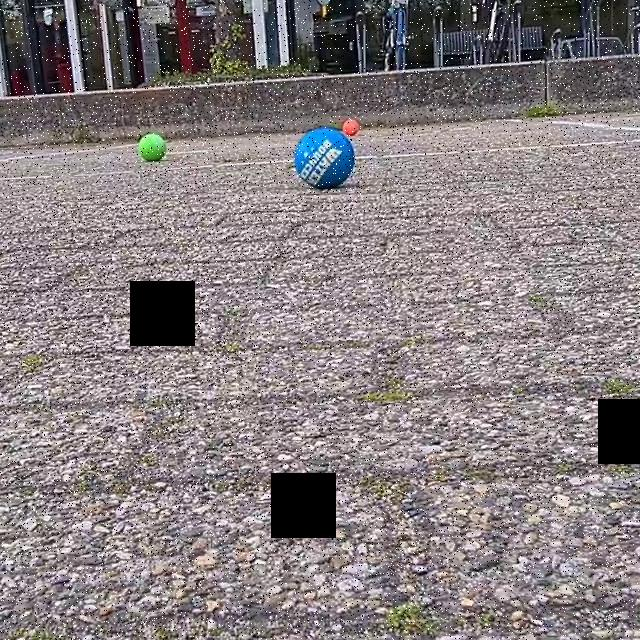ball: (136, 129, 166, 165), (340, 115, 363, 139)
